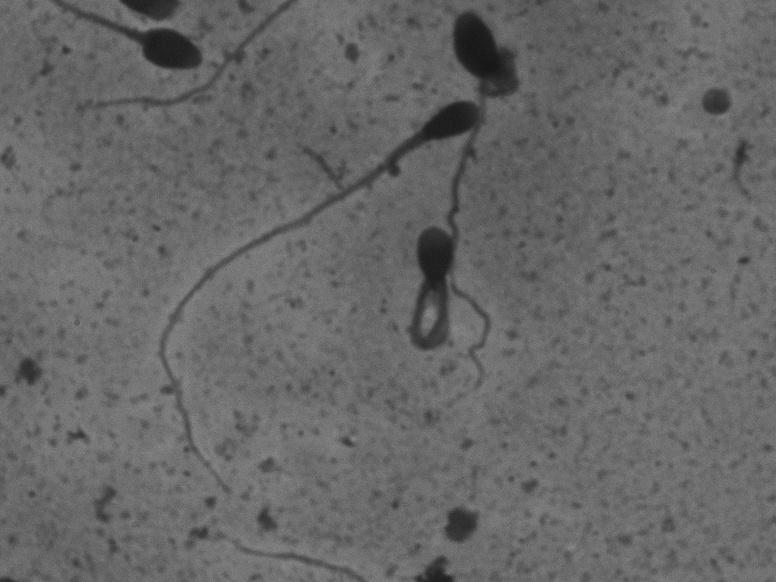Abnormal: (140, 94, 488, 518), (381, 218, 468, 373), (427, 10, 542, 100)
